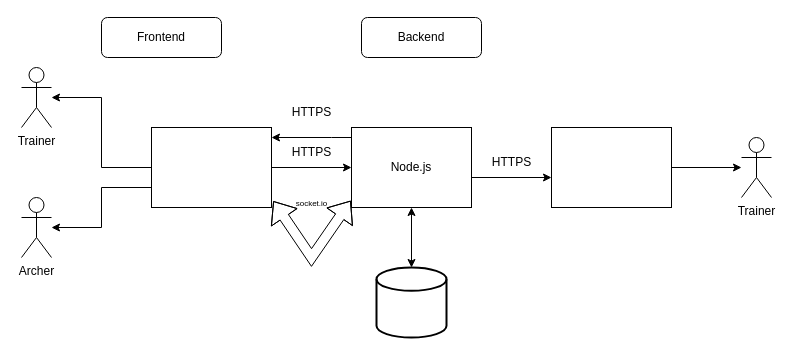
This 792x356 diagram has some shape labels left out. Each missing label, with the box of its shape:
MongoDB: (375, 266, 447, 338)
React.js: (150, 126, 272, 208)
TelegramBOT: (550, 126, 672, 208)
